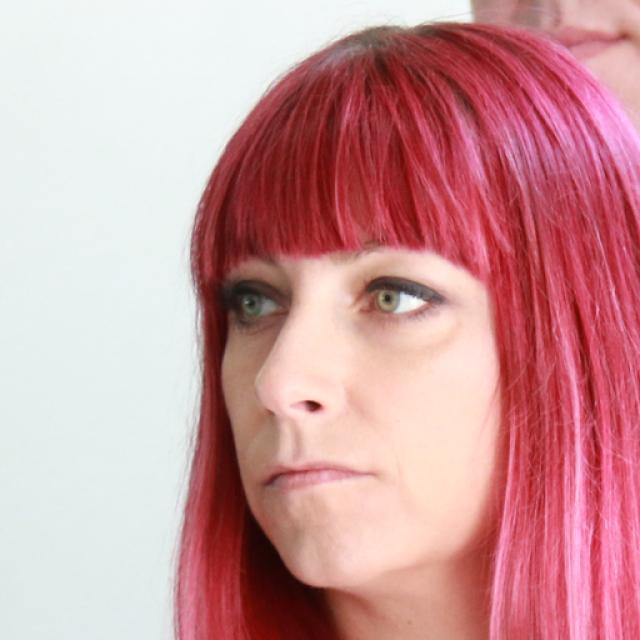neutral: (220, 129, 508, 589)
